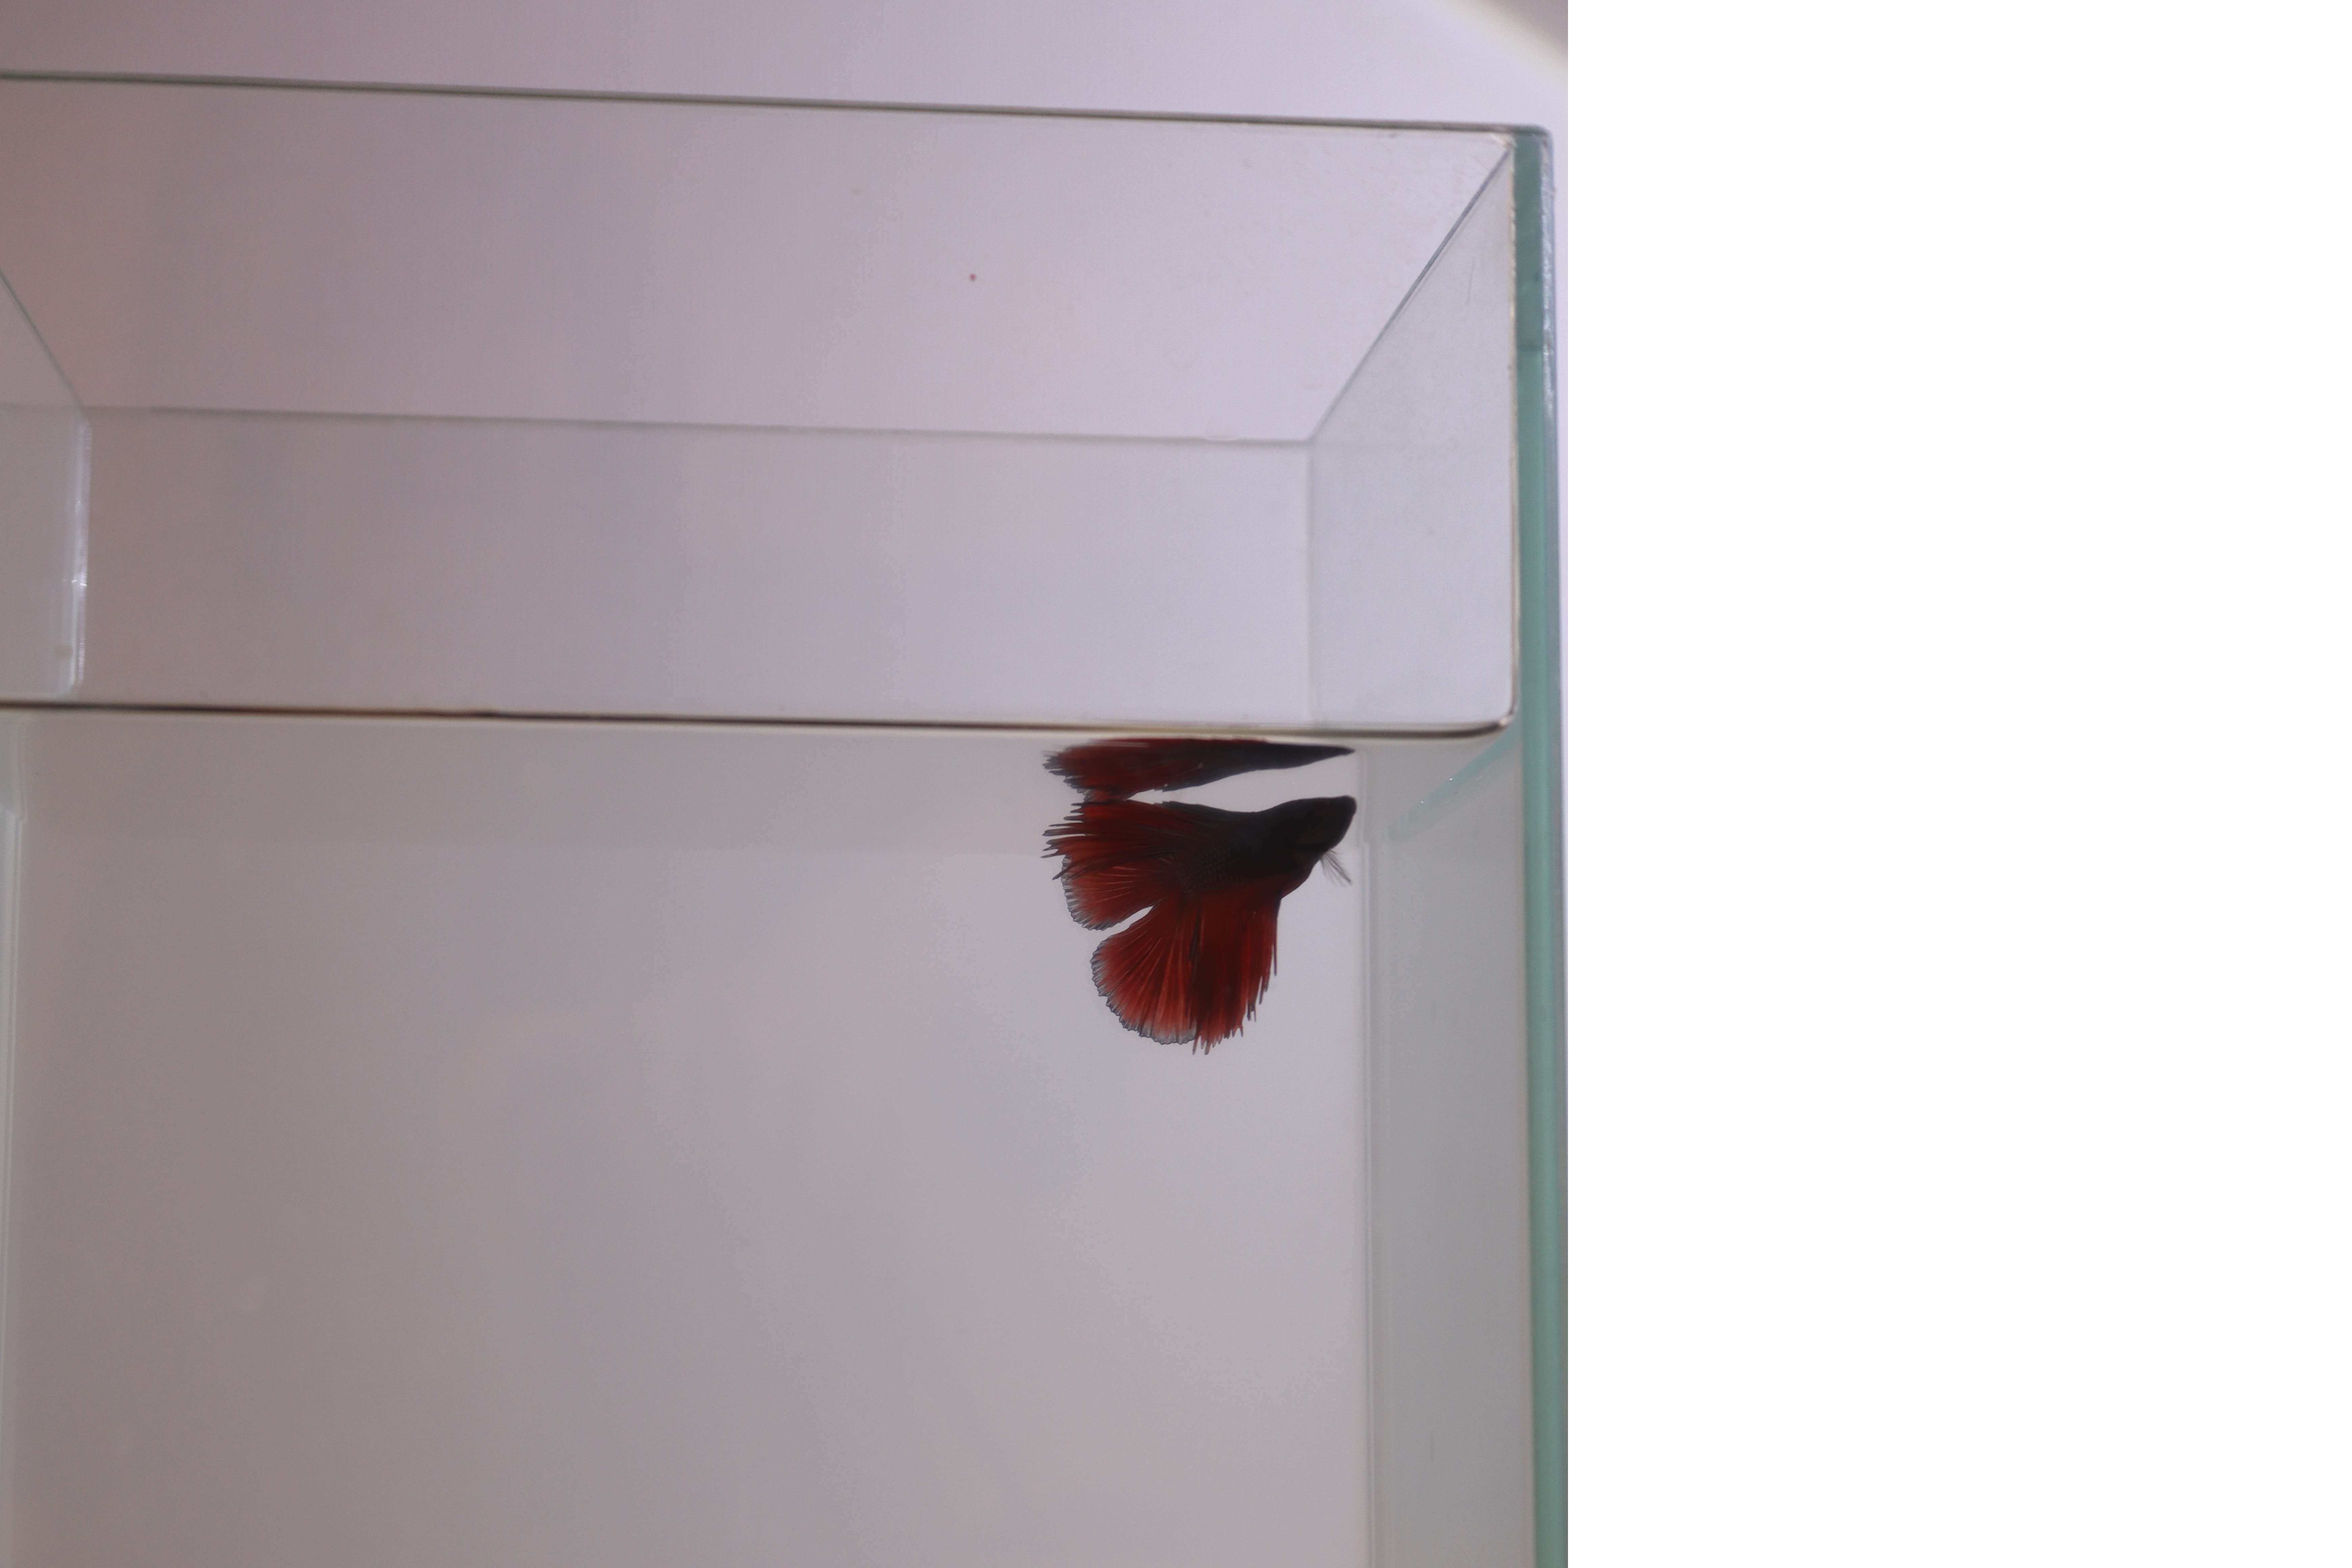fish: (1033, 791, 1376, 1053)
